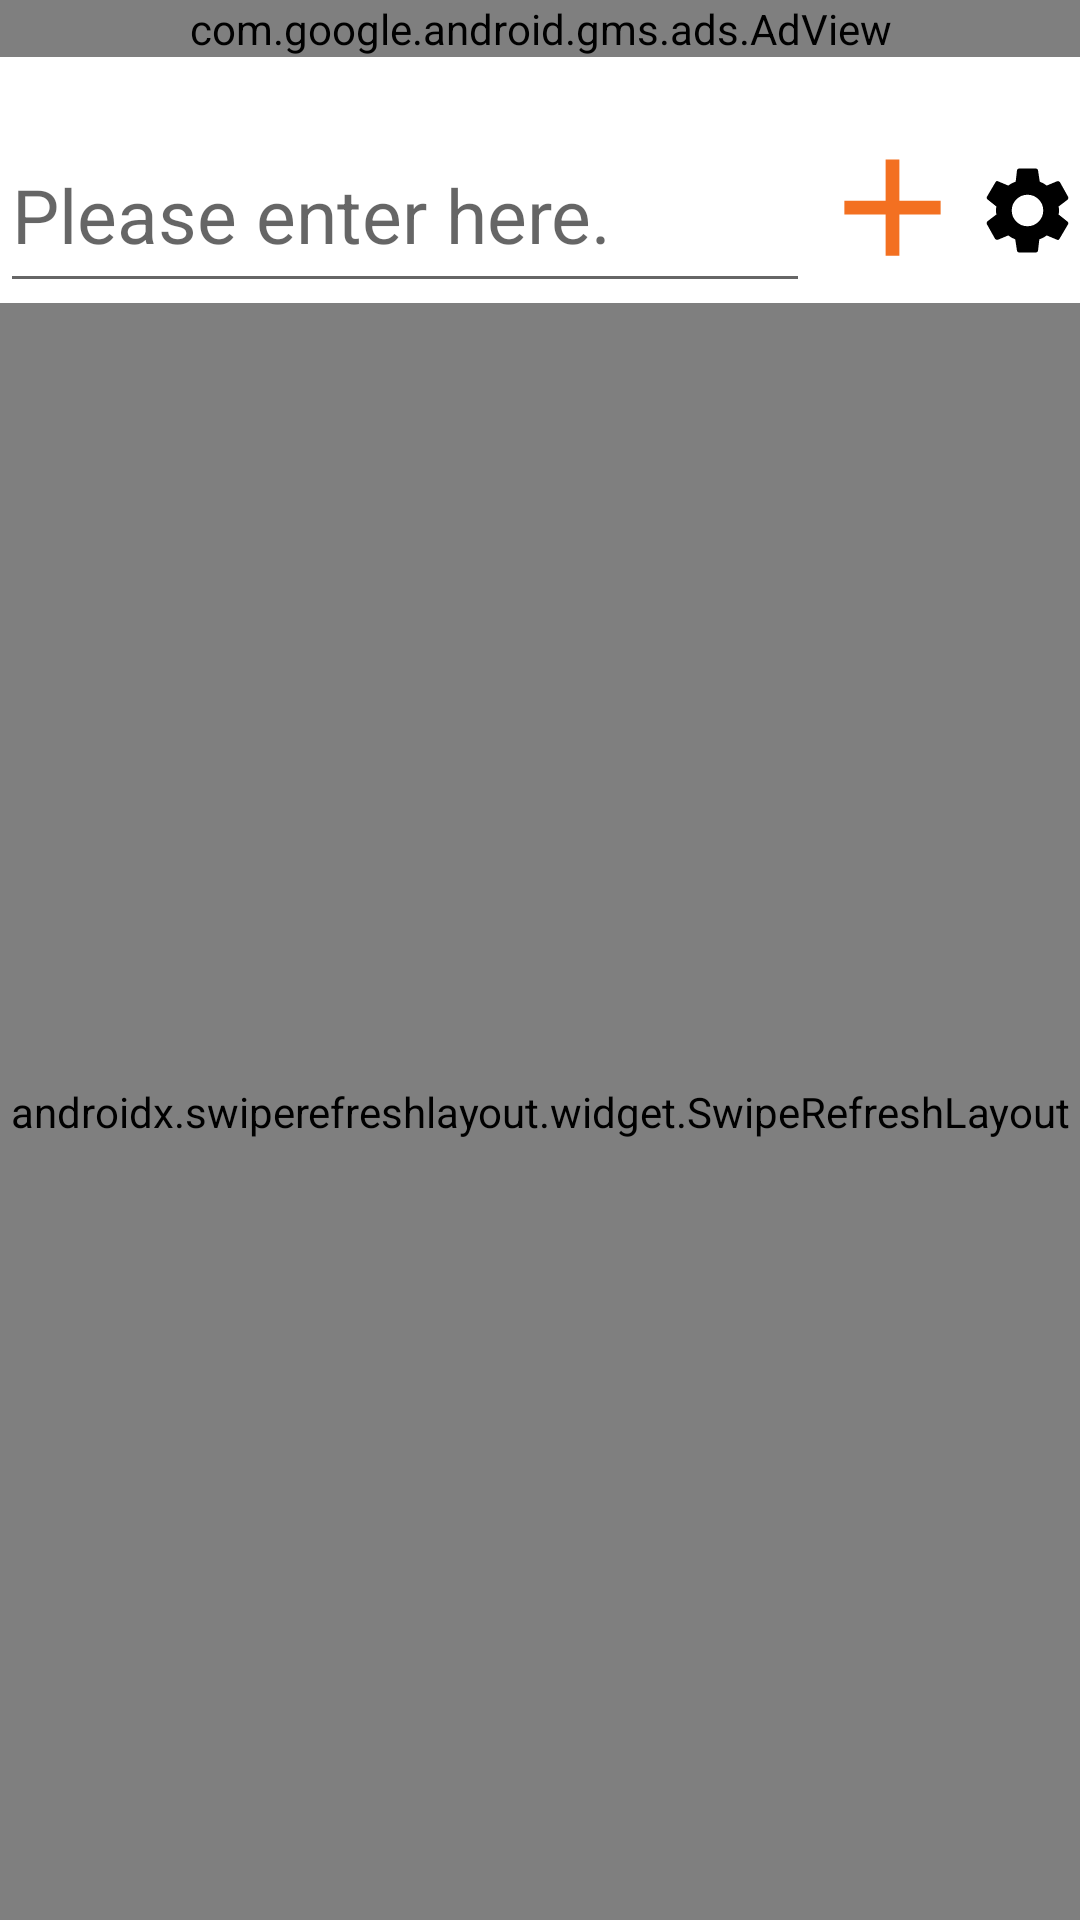

Icons on this 1080px x 1920px Android screen, each with the point to tap as (x=x, y=y):
add: (x=892, y=207)
settings: (x=1027, y=210)
